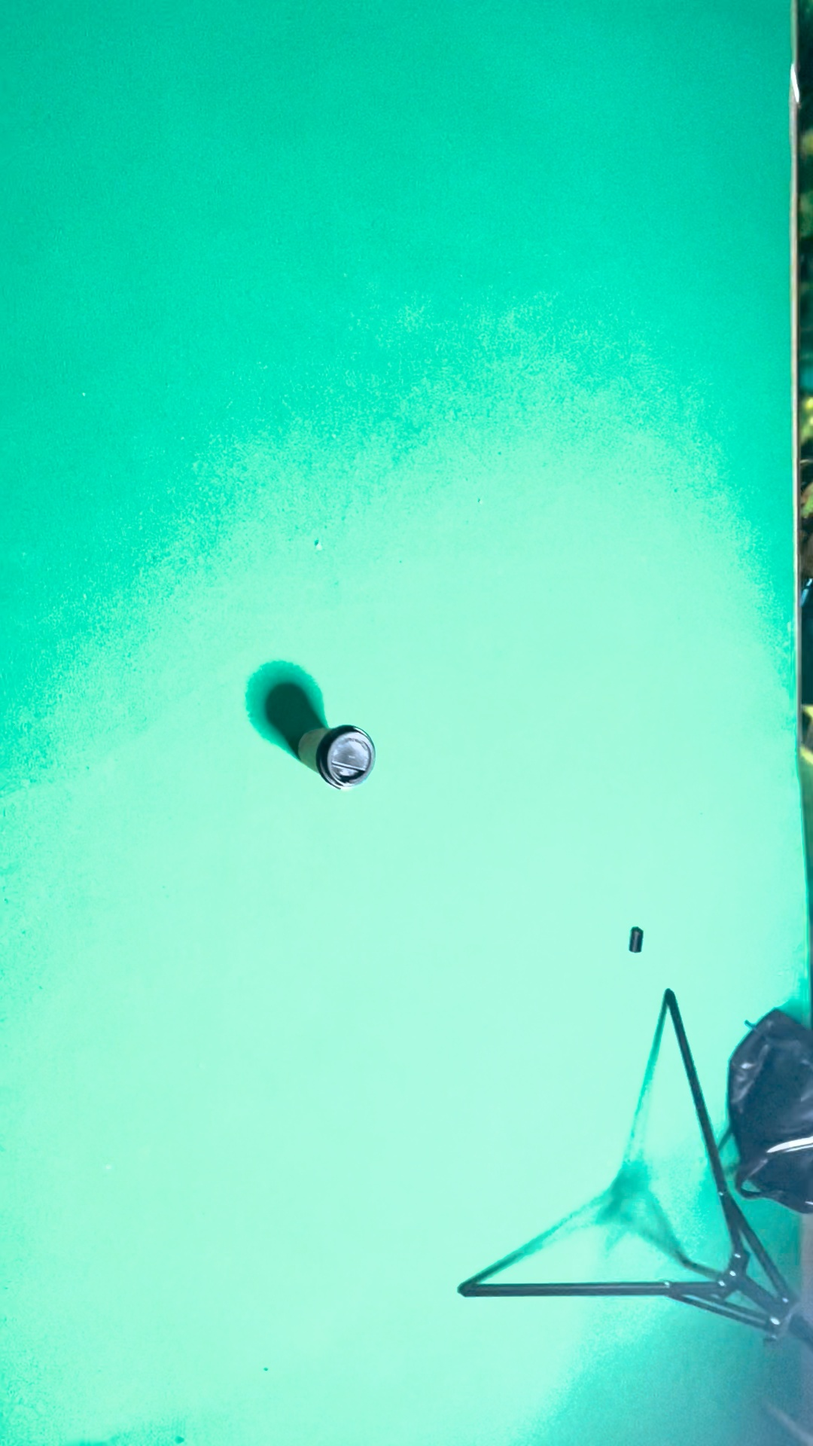cup: (438, 484, 525, 900)
